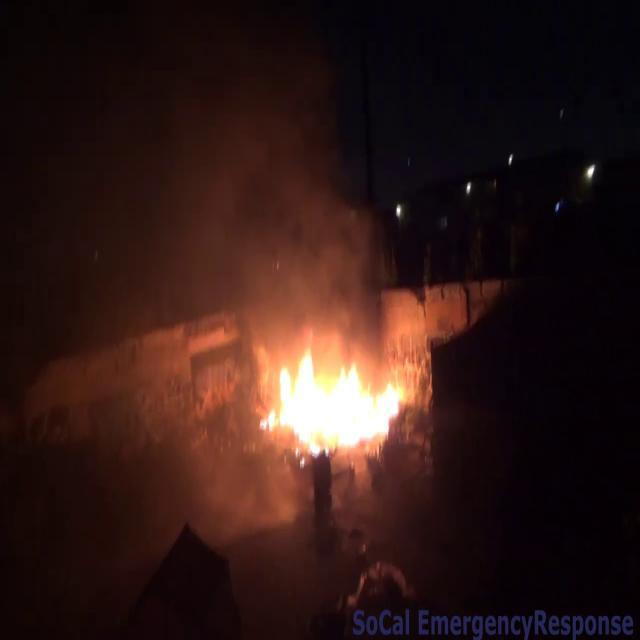Fire: (254, 312, 434, 476)
Smoke: (65, 0, 362, 342)
